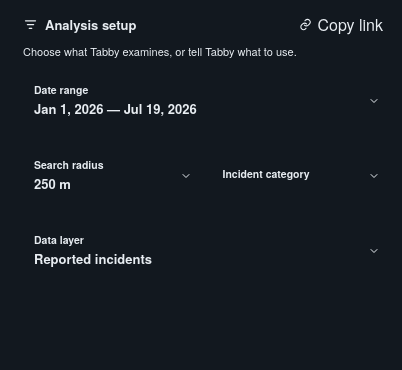
ContextStrip › copies the share link and discloses exact locations and recomputation
Expected: the element "Copy link" is shown, [23,10,391,38]
Click the button "Copy link": (341, 24) [291,10,391,38]
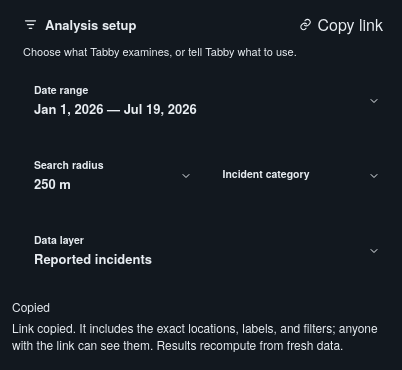
Now the text "Copied" is shown, box [12,298,50,315]
Now the text "includes the exact locations, labels, and filters" shows "anyone with the link can see them", box [12,319,378,353]
Now the text "includes the exact locations, labels, and filters" shows "Results recompute from fresh data", box [12,319,378,353]
